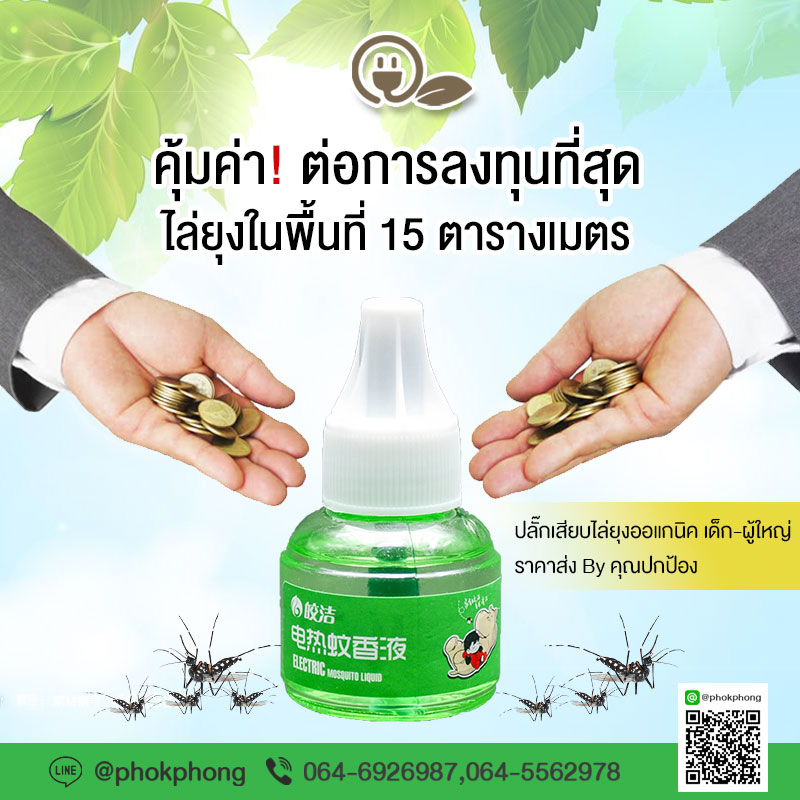Insecticide: (273, 293, 513, 730)
